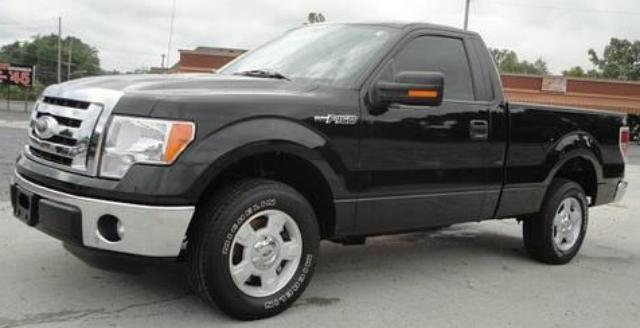pickup-truck: (7, 19, 633, 321)
